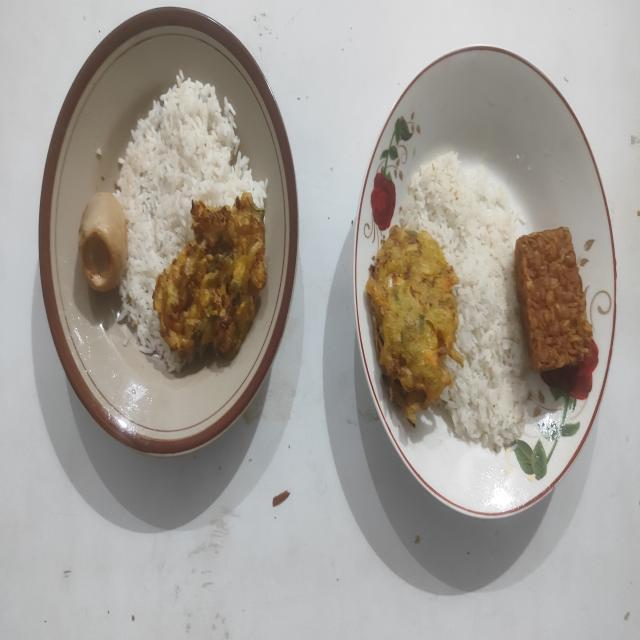nasi_putih: (114, 70, 267, 370), (400, 152, 528, 451)
tempe_goreng: (514, 227, 592, 373)
